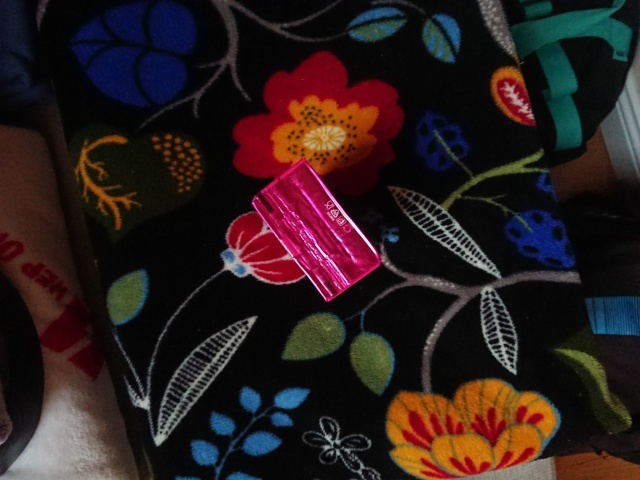Barcaffe Classic Original 225g: (249, 154, 384, 304)
